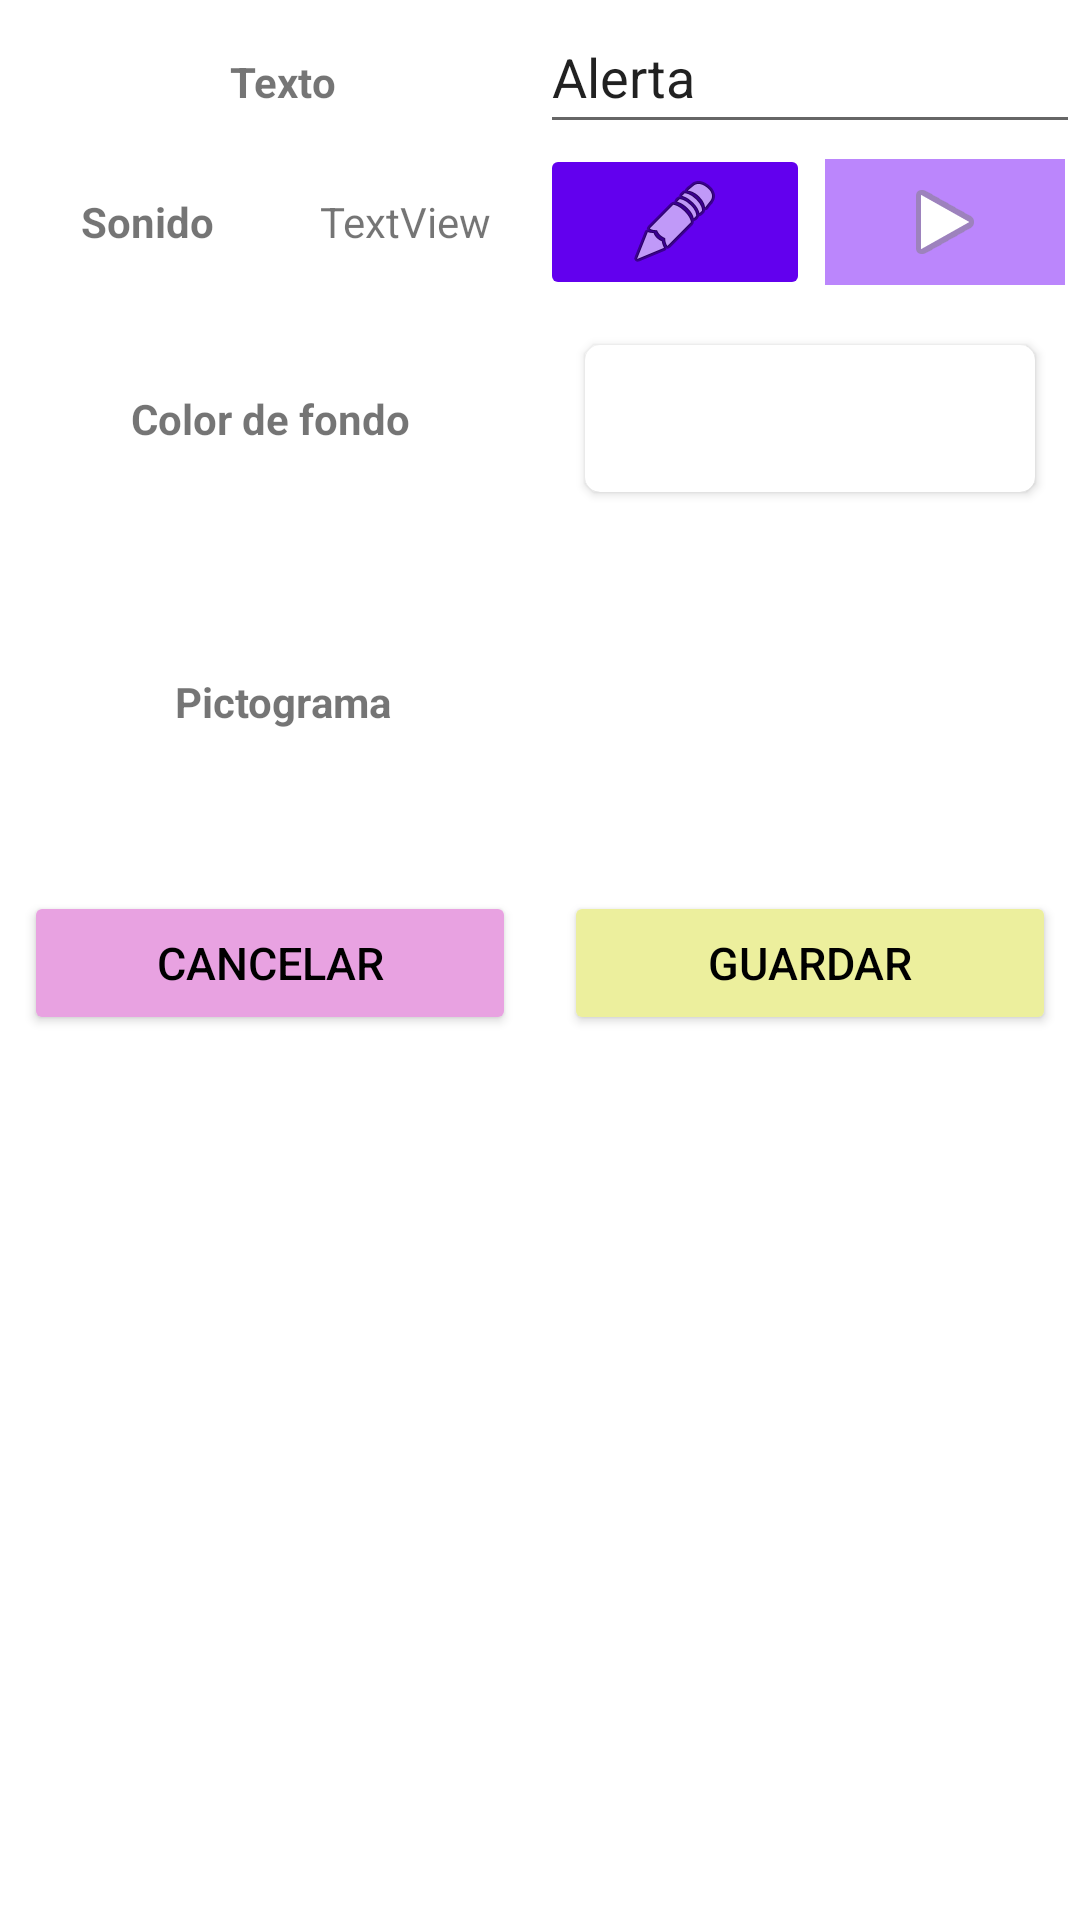

Where icons sit on this 1080px x 1920px app screen, as (x1, y1, x2, y2):
Reproducir: (825, 159, 1065, 285)
